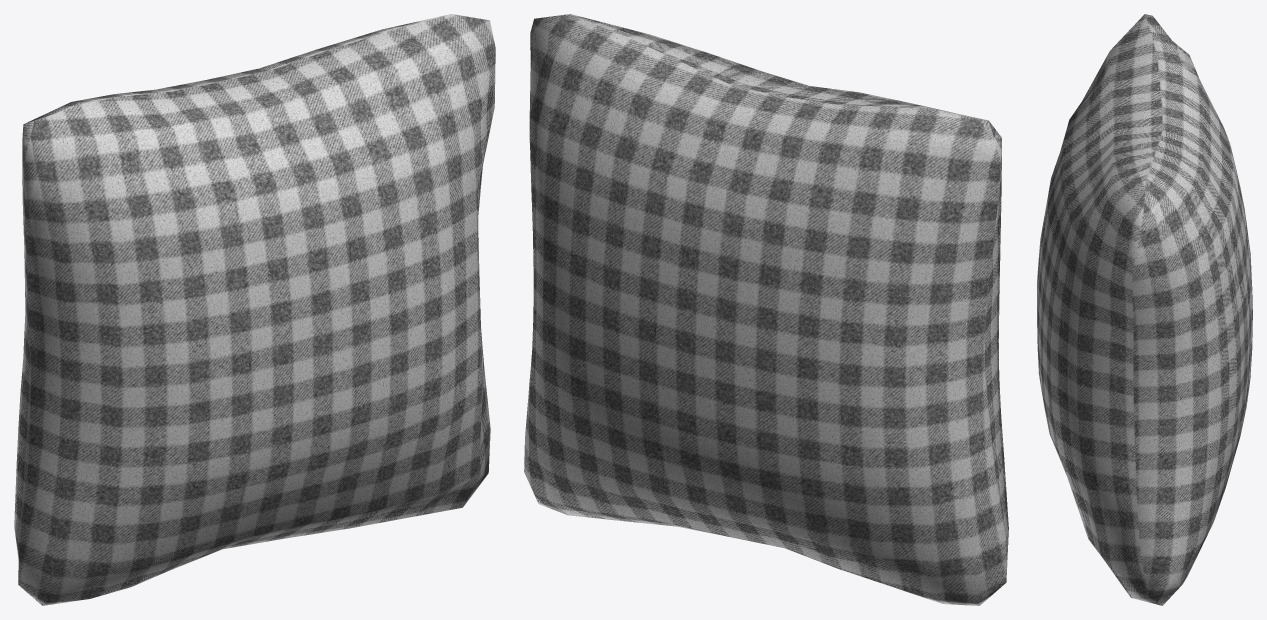
The model's file is pillow_check_patterns.glb.
The picture shows the model from 3 angles, left to right: view 1: azimuth 30°, elevation 25°; view 2: azimuth 150°, elevation 25°; view 3: azimuth 270°, elevation 25°; orthographic projection. The views are drawn at different scales.
Visible parts, largest first — view 1: polySurface1; view 2: polySurface1; view 3: polySurface1.
Part boxes in pixels (left/top/right/bottom): polySurface1: left=14, top=14, right=495, bottom=605; polySurface1: left=524, top=14, right=1008, bottom=605; polySurface1: left=1037, top=14, right=1252, bottom=605.
Bounding box in the file's own units: 39.68 × 39.58 × 18.45.
Materials: 1 (1 with a texture image).
